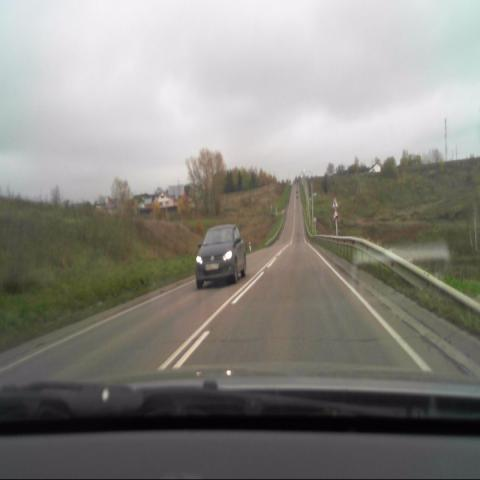1_14: (332, 209, 338, 221)
2_3_3: (331, 196, 338, 207)
